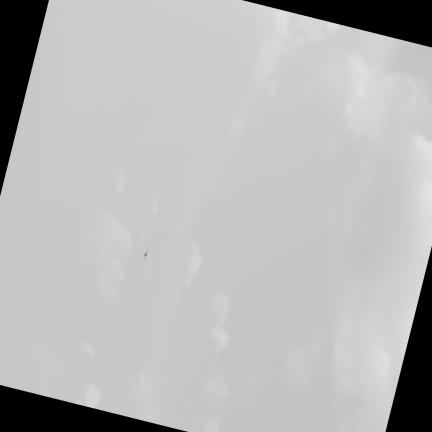Shahed: (142, 250, 146, 260)
